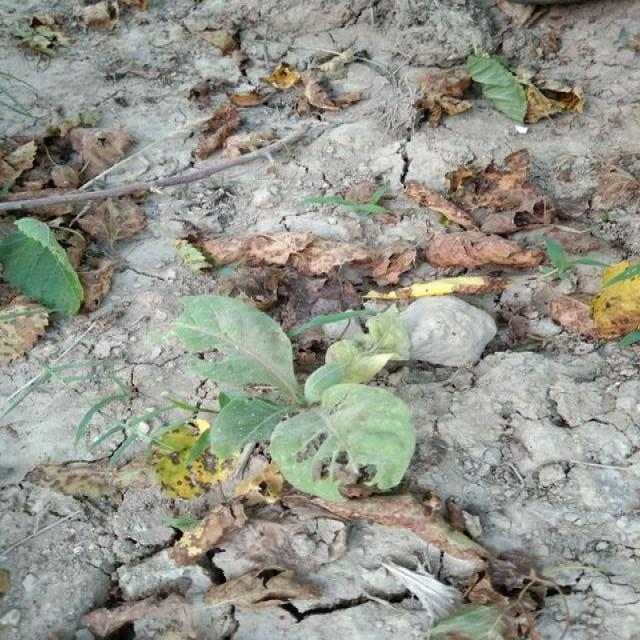crop: (178, 287, 407, 501)
